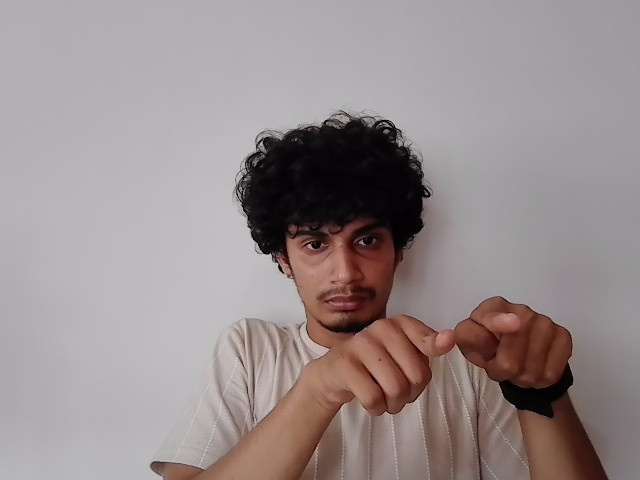same: (319, 295, 572, 410)
